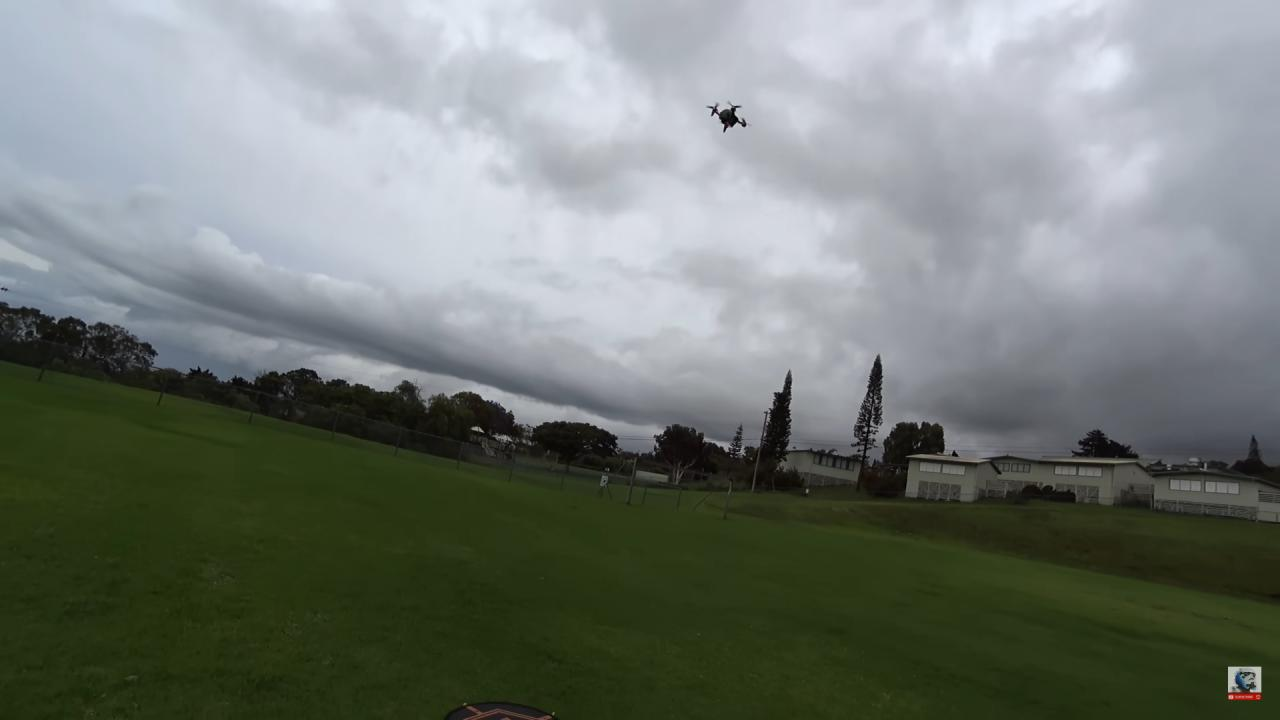Drone: (699, 93, 755, 140)
